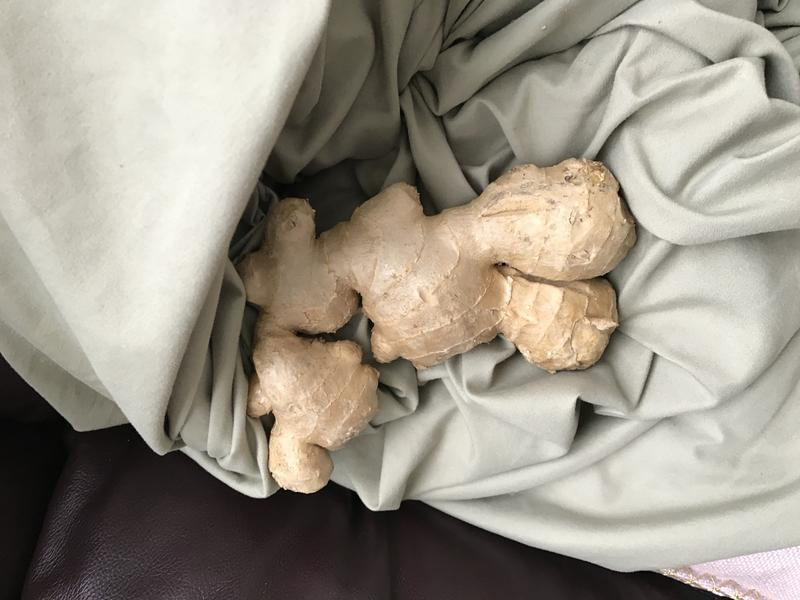ginger: (235, 146, 638, 508)
